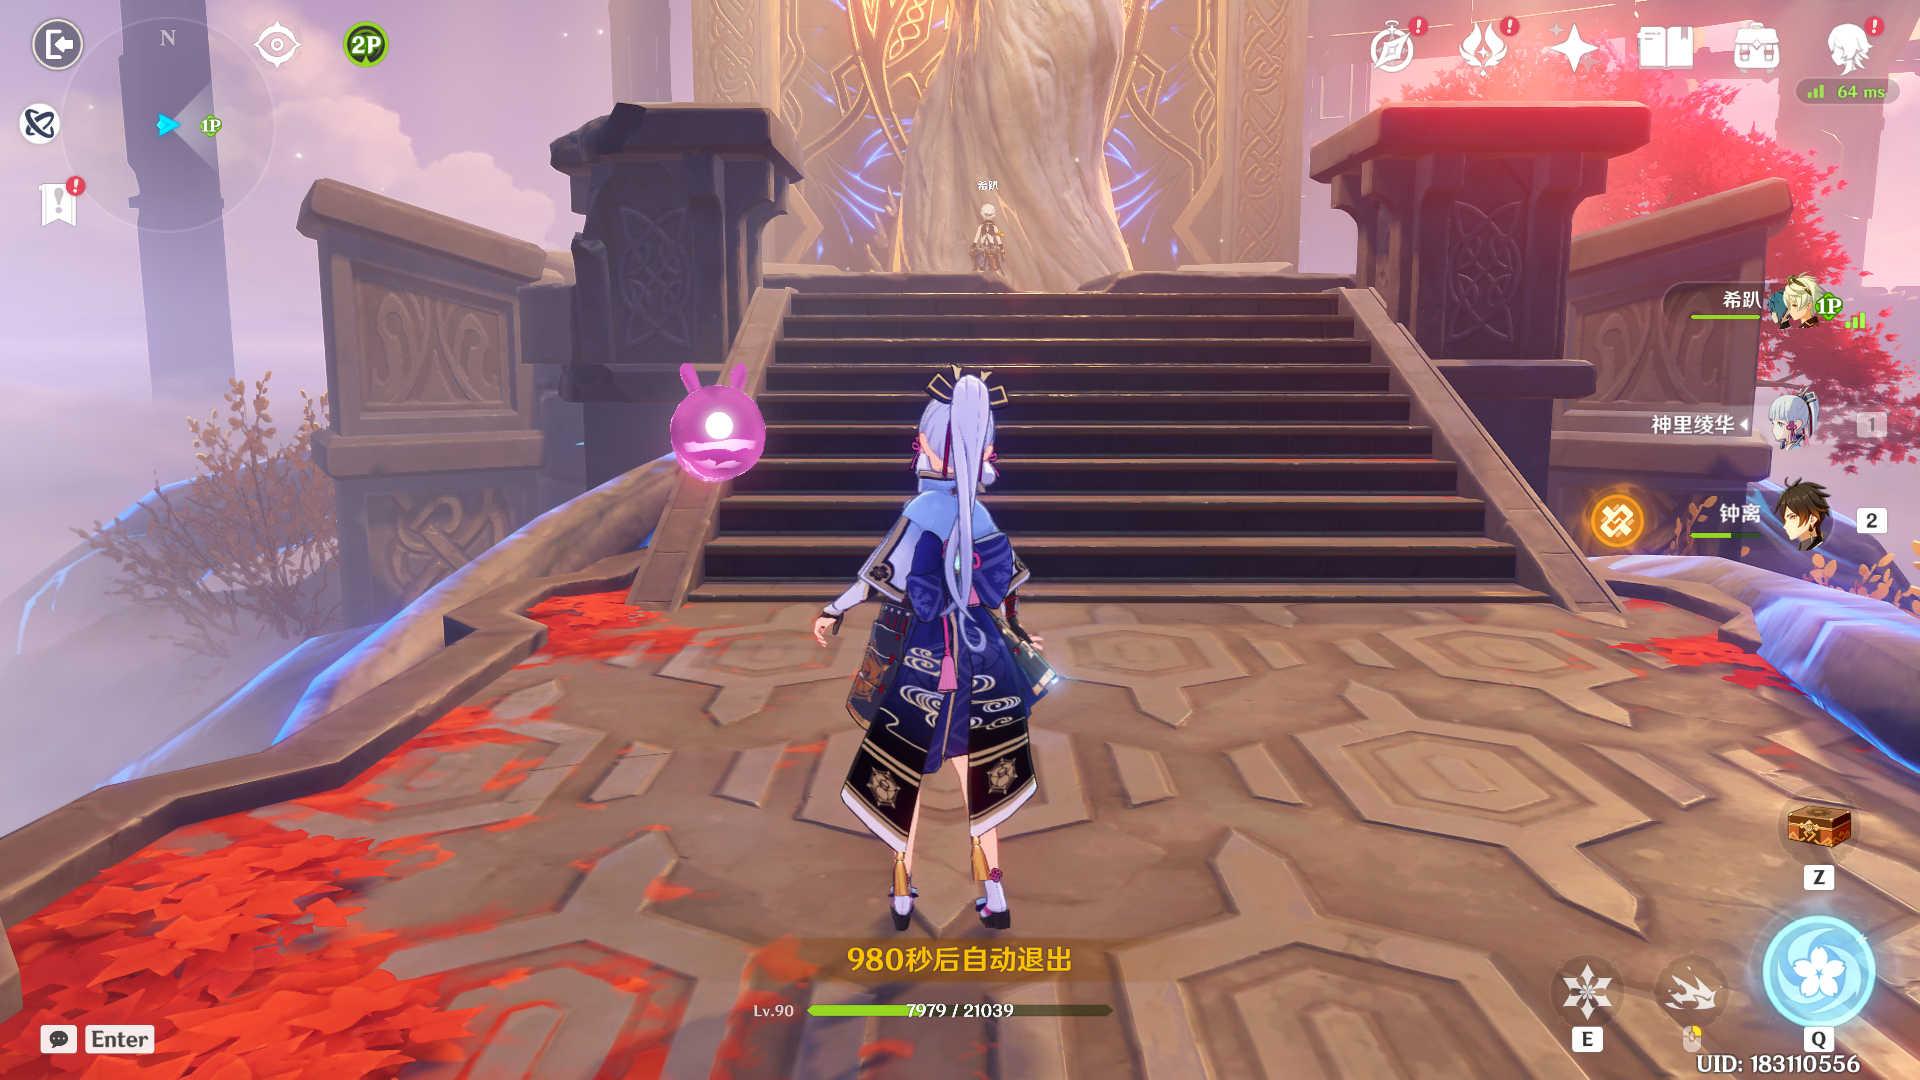character: (787, 363, 1095, 938), (948, 194, 1029, 303)
